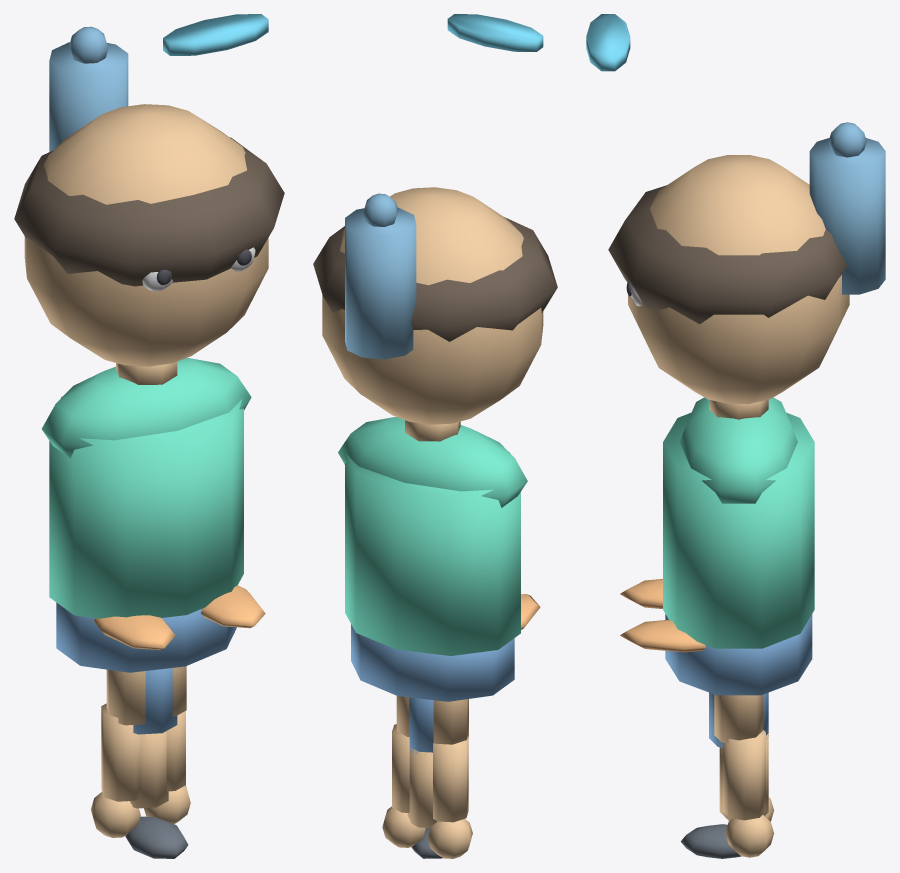
File: adventurer_boy.glb
3 renders of one model, left to right at view 1: azimuth 30°, elevation 25°; view 2: azimuth 150°, elevation 25°; view 3: azimuth 270°, elevation 25°, orthographic. The views are drawn at different scales.
Parts seen in each view (by area): view 1: torso, head, hair, shoulders, scuba_tank, shorts, arm_R_l, scuba_mask, flipper_R, arm_R_u, foot_L, shin_L (+9 smaller); view 2: torso, head, scuba_tank, hair, shoulders, shorts, arm_R_l, scuba_mask, shin_L, arm_R_u, arm_L_l, hand_R (+6 smaller); view 3: head, torso, hair, scuba_tank, shoulders, shorts, arm_L_l, arm_L_u, scuba_mask, flipper_L, hand_L, foot_R (+4 smaller).
Boxes of the visible parts, <box> form: torso: <box>49,396,243,618</box>; head: <box>24,104,268,366</box>; hair: <box>14,137,284,286</box>; shoulders: <box>42,358,251,458</box>; scuba_tank: <box>49,26,128,151</box>; shorts: <box>56,602,236,672</box>; arm_R_l: <box>101,703,140,801</box>; scuba_mask: <box>163,14,268,55</box>; flipper_R: <box>93,615,175,650</box>; arm_R_u: <box>106,669,145,725</box>; foot_L: <box>125,816,187,858</box>; shin_L: <box>130,733,168,808</box>; torso: <box>345,452,520,655</box>; head: <box>322,187,543,424</box>; scuba_tank: <box>345,193,416,359</box>; hair: <box>313,217,557,341</box>; shoulders: <box>338,417,527,507</box>; shorts: <box>351,624,514,701</box>; arm_R_l: <box>433,735,468,822</box>; scuba_mask: <box>447,14,543,51</box>; shin_L: <box>408,751,436,827</box>; arm_R_u: <box>433,699,468,744</box>; arm_L_l: <box>392,724,409,812</box>; hand_R: <box>427,819,472,858</box>; head: <box>628,155,849,403</box>; torso: <box>663,412,814,648</box>; hair: <box>608,185,846,324</box>; scuba_tank: <box>809,122,885,294</box>; shoulders: <box>680,397,797,503</box>; shorts: <box>665,614,812,695</box>; arm_L_l: <box>722,730,765,820</box>; arm_L_u: <box>714,694,763,743</box>; scuba_mask: <box>586,14,630,71</box>; flipper_L: <box>620,619,705,652</box>; hand_L: <box>725,815,774,857</box>; foot_R: <box>681,824,741,858</box>.
Size of the model in its own units: 0.4151 by 1.5 by 0.4975.
